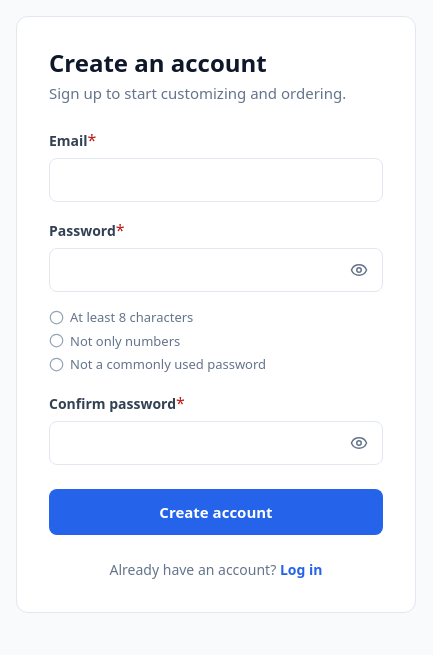
Test: RegisterPage › rejects a password shorter than 8 characters
This screenshot has width=433, height=655.
Type "shopper@example.test" into the field labelled "Email" at [216, 180], box [49, 158, 383, 202]
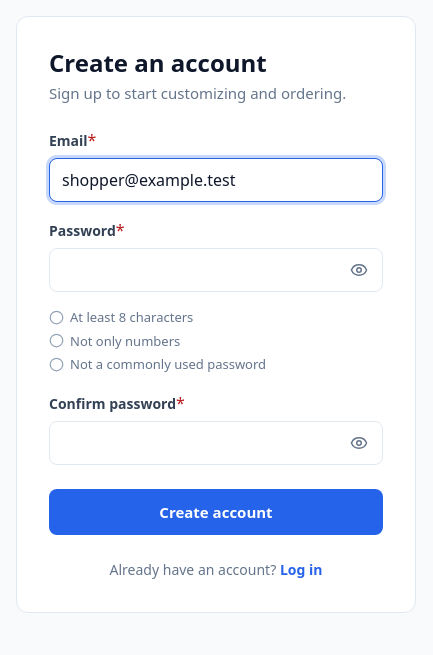
Type "short1a" into the password field labelled "Password" at [216, 270], box [49, 248, 383, 292]
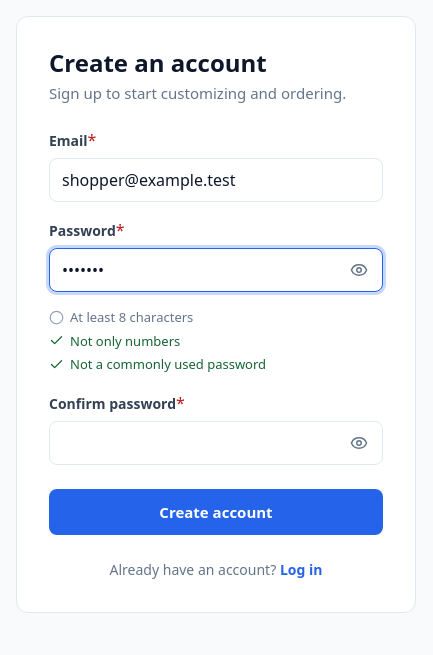
Type "short1a" into the password field labelled "Confirm password" at [216, 443], box [49, 421, 383, 465]
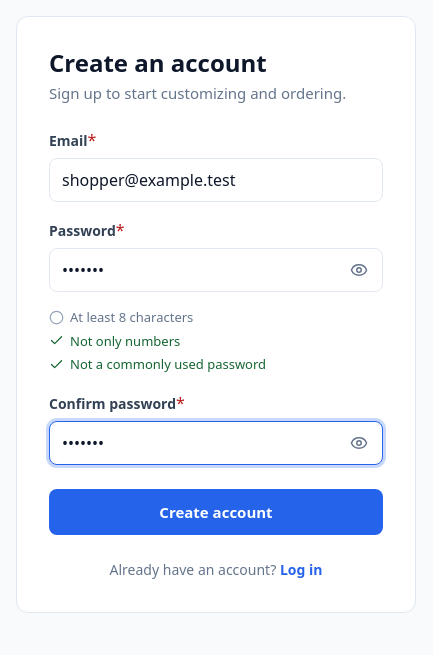
Click the button "Create account" at [216, 512], box [49, 489, 383, 535]
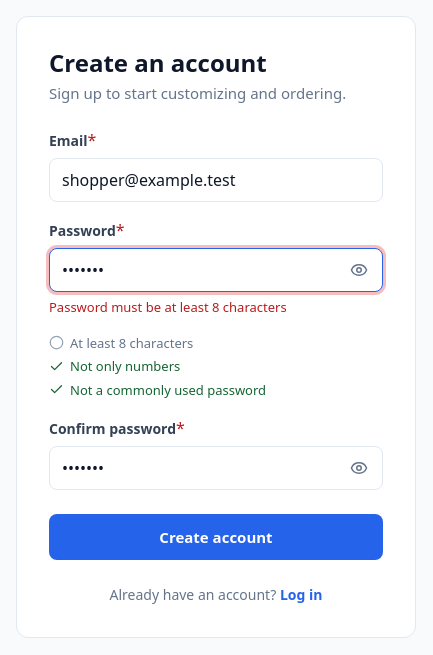
Expected: the text "Password must be at least 8 characters" is shown, [49, 298, 287, 316]
